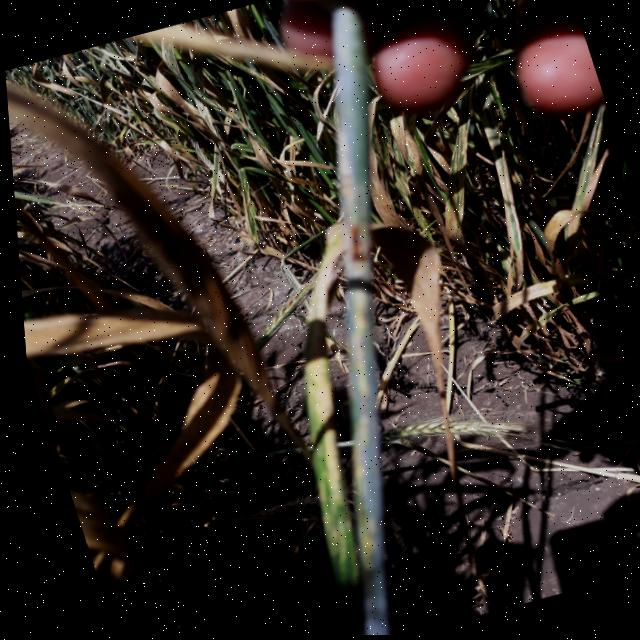black_stem_rust: (130, 0, 555, 638)
